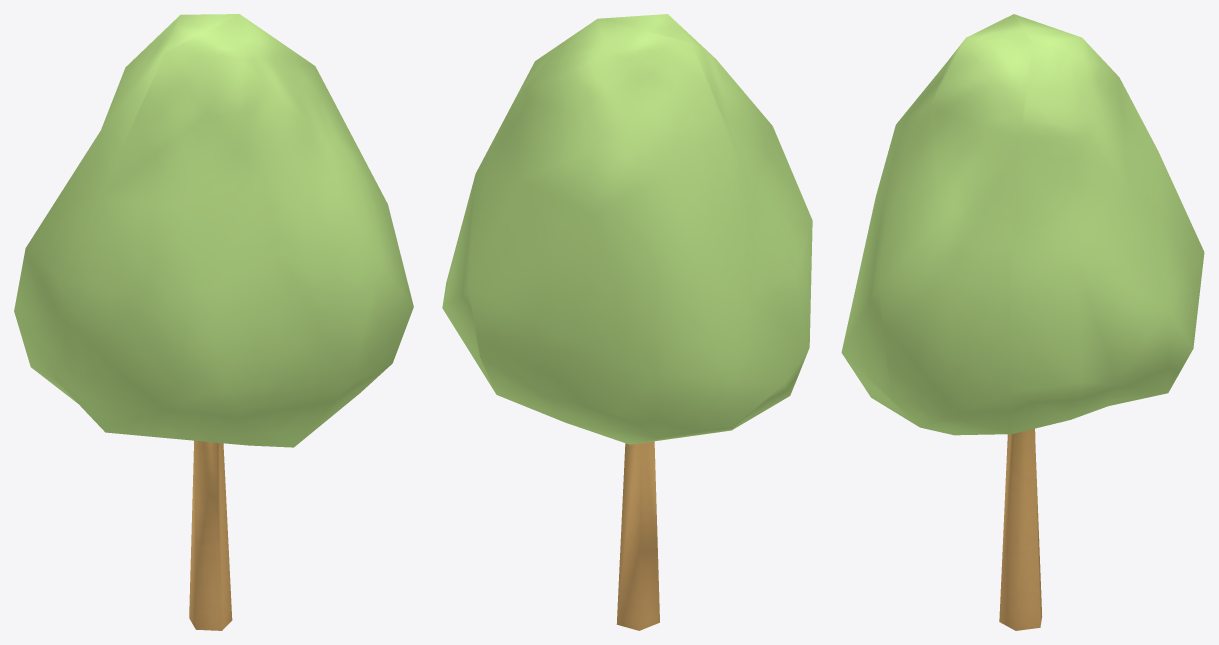
3 views of the same model, side by side, from view 1: azimuth 30°, elevation 25°; view 2: azimuth 150°, elevation 25°; view 3: azimuth 270°, elevation 25° (orthographic).
Parts seen in each view (by area): view 1: Listvennoe.001; view 2: Listvennoe.001; view 3: Listvennoe.001.
Part boxes in pixels (x1,y1,x2,y2): Listvennoe.001: (14,14,413,630); Listvennoe.001: (442,14,812,630); Listvennoe.001: (841,14,1204,630).
Bounding box in the file's own units: 8.72 × 15.37 × 8.5.
1 material, 1 textured.
